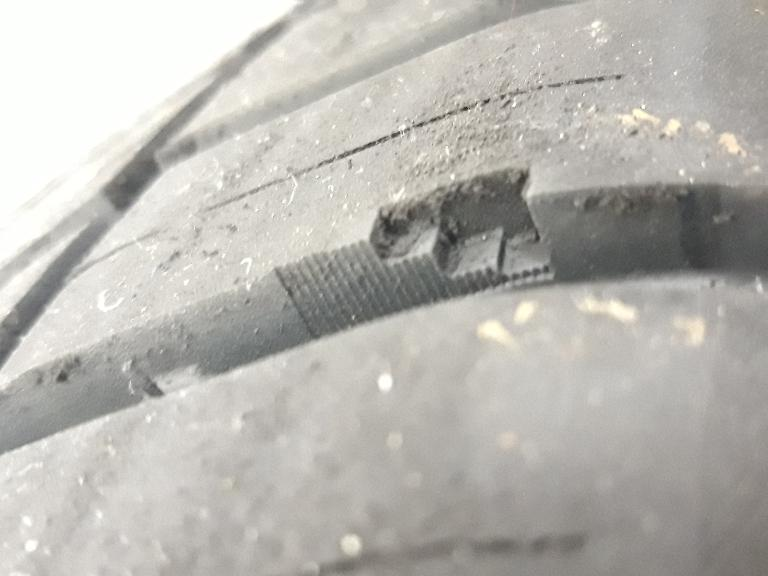temoin:75: (313, 158, 571, 347)
